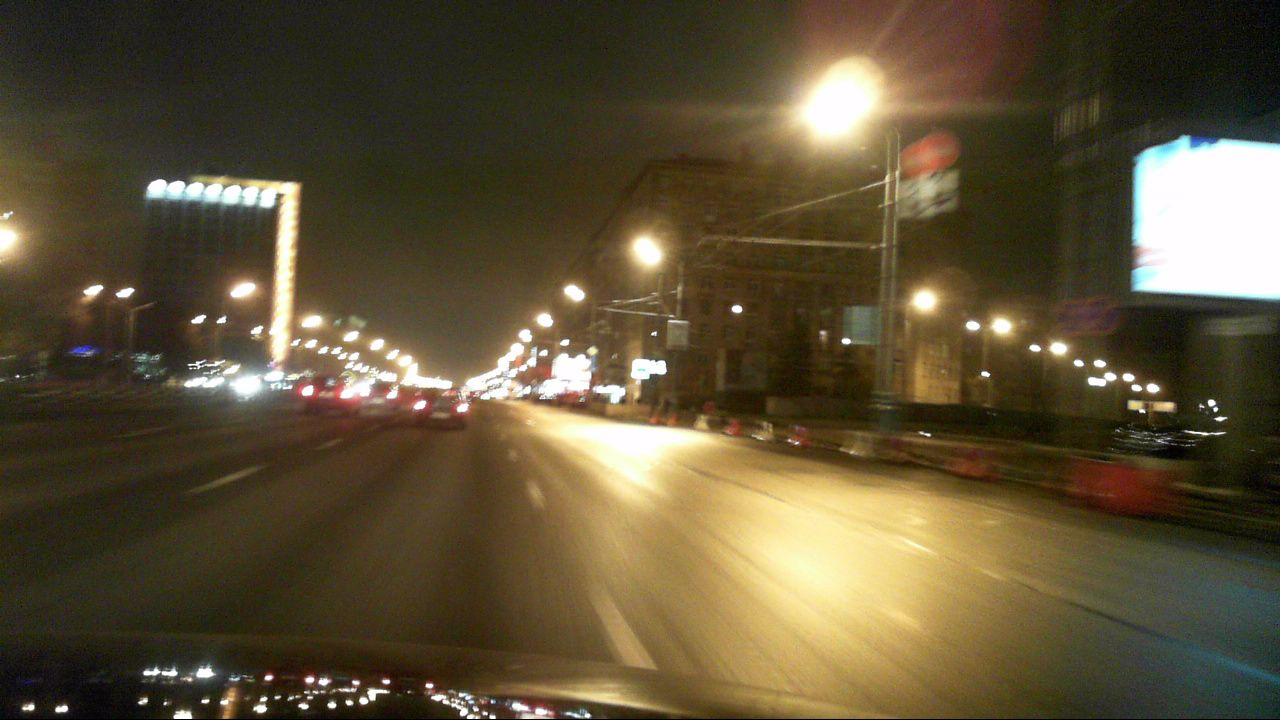No Parking: (1078, 294, 1118, 333)
